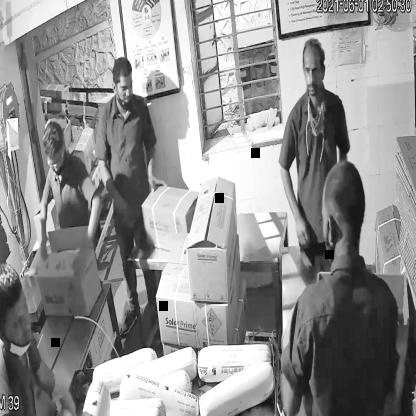goggles: (44, 149, 68, 173)
no_goggles: (5, 293, 31, 344), (298, 57, 329, 82), (109, 73, 136, 99)
